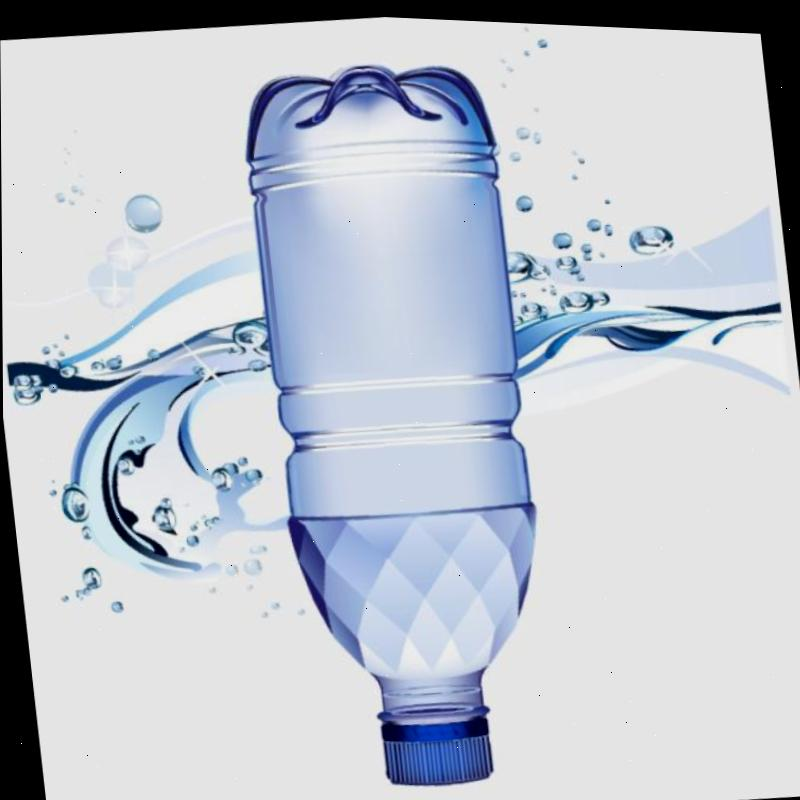botella: (236, 48, 563, 800)
